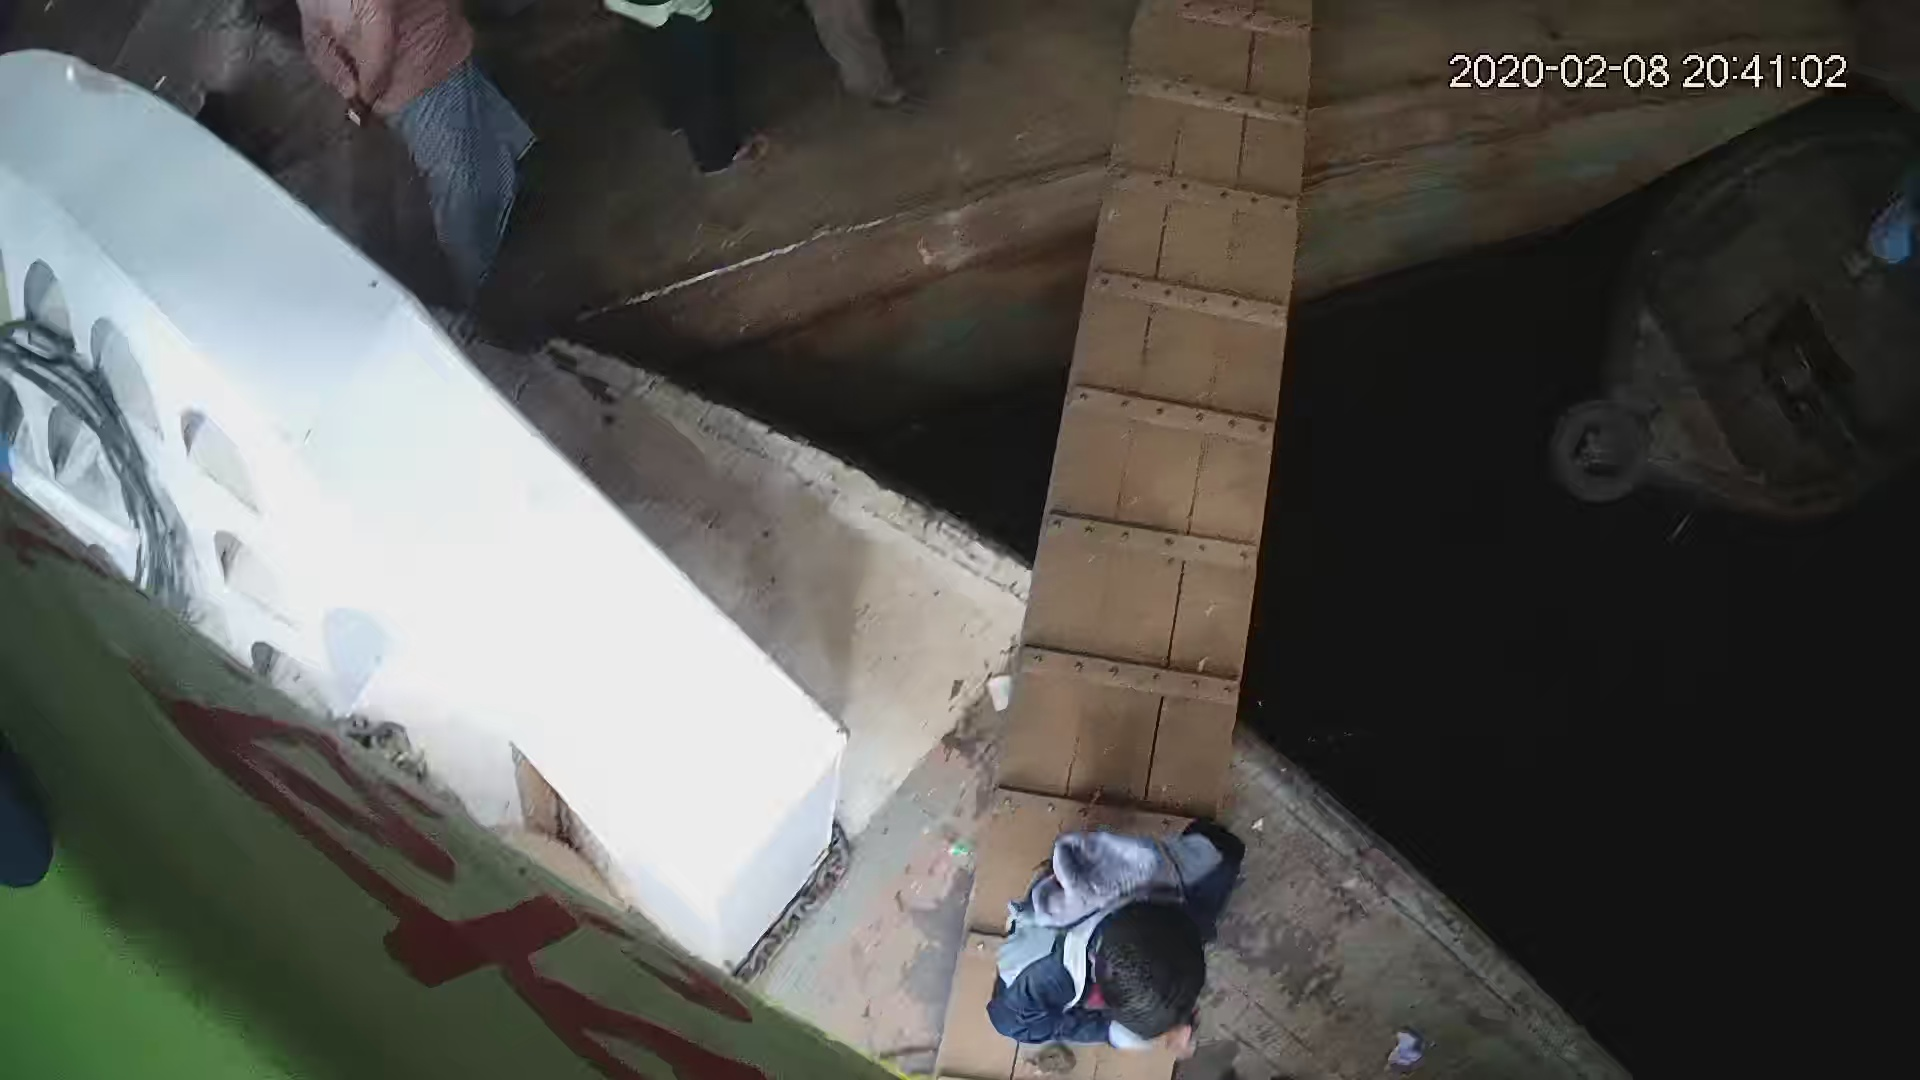person: (284, 1, 540, 295), (981, 807, 1254, 1055)
